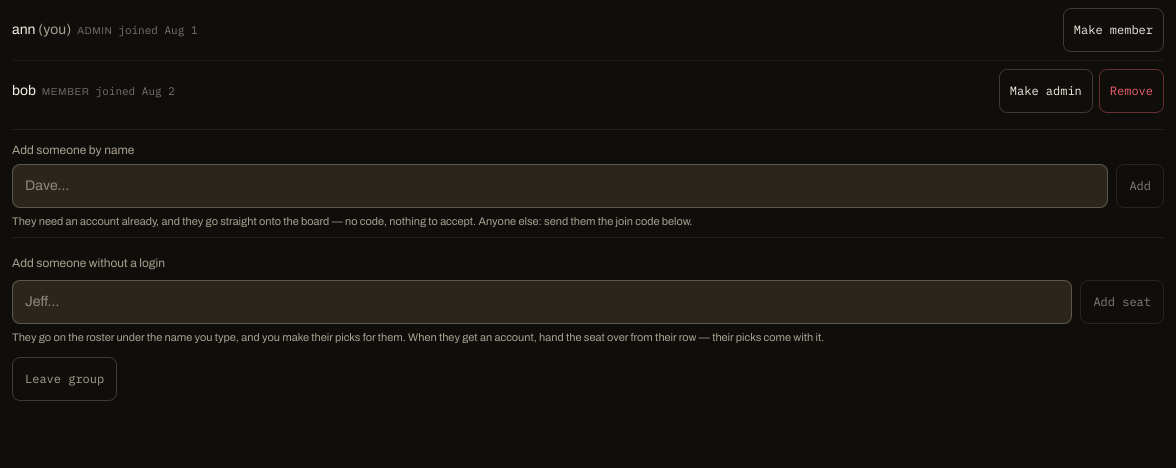
RosterAdmin › says who is already in rather than offering to add them twice
The image size is (1176, 468).
Type "bob" into the field labelled "Add someone by name". click: (560, 186)
box: left=12, top=164, right=1108, bottom=208
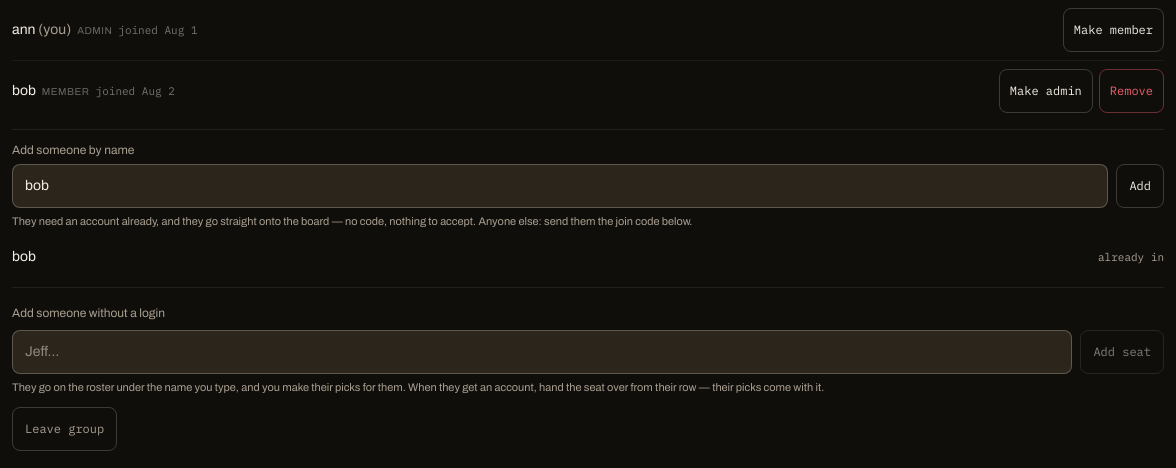
Expected: the text "already in" is shown, left=1098, top=249, right=1164, bottom=265
